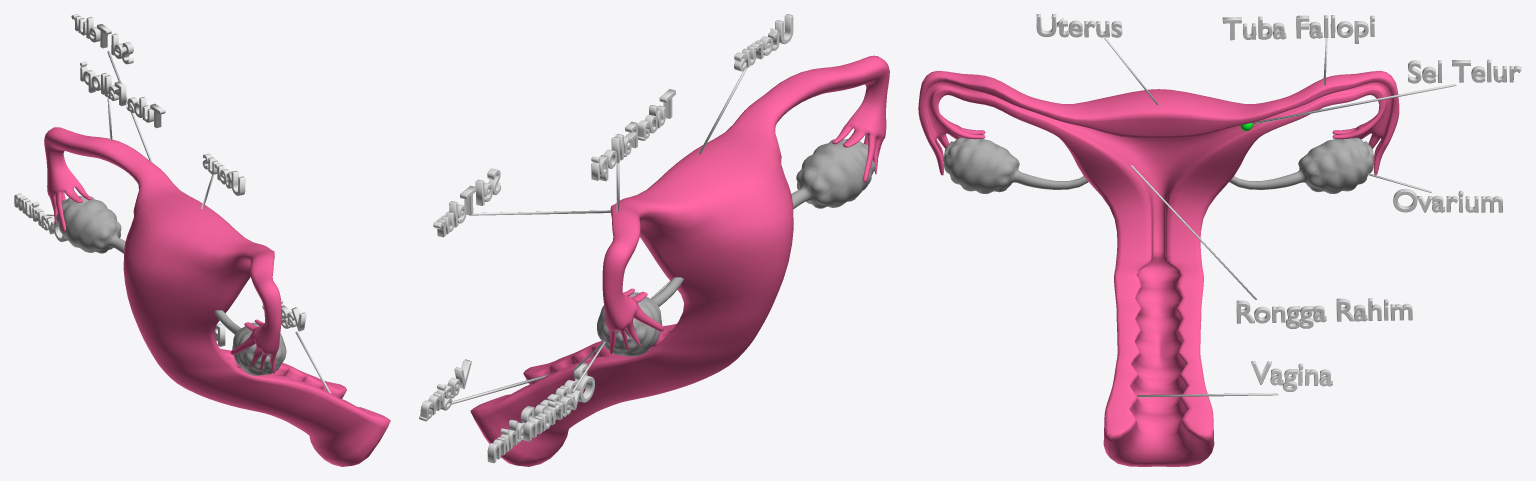
The model's file is fase2.fbx.
The picture shows the model from 3 angles, left to right: view 1: azimuth 30°, elevation 25°; view 2: azimuth 150°, elevation 25°; view 3: azimuth 270°, elevation 25°; orthographic projection. The views are drawn at different scales.
Visible parts, largest first — view 1: Cube.001, Sphere, tuba fallopi, sel telur, ovarium, uterus, vagina; view 2: Cube.001, Sphere, tuba fallopi, dinding rahim, sel telur, ovarium, uterus, vagina; view 3: Cube.001, Sphere, dinding rahim, tuba fallopi, sel telur, ovarium, vagina, uterus, Cube.
Boxes of the visible parts, x1,y1,x2,y2 form: Cube.001: (44, 127, 390, 466); Sphere: (56, 196, 286, 375); tuba fallopi: (80, 61, 165, 128); sel telur: (71, 14, 133, 64); ovarium: (14, 193, 67, 241); uterus: (202, 153, 245, 195); vagina: (262, 299, 306, 331); Cube.001: (470, 55, 889, 466); Sphere: (597, 139, 875, 356); tuba fallopi: (591, 89, 675, 181); dinding rahim: (487, 363, 587, 463); sel telur: (433, 168, 500, 237); ovarium: (523, 375, 594, 441); uterus: (734, 14, 793, 71); vagina: (419, 359, 471, 421); Cube.001: (918, 70, 1399, 466); Sphere: (943, 137, 1373, 193); dinding rahim: (1236, 298, 1412, 328); tuba fallopi: (1222, 15, 1374, 43); sel telur: (1408, 59, 1521, 83); ovarium: (1393, 189, 1502, 212); vagina: (1251, 361, 1332, 391); uterus: (1036, 14, 1122, 37); Cube: (1253, 84, 1456, 124).
Size of the model in its own units: 74.77 by 108 by 156.
10 materials, 3 textured.
